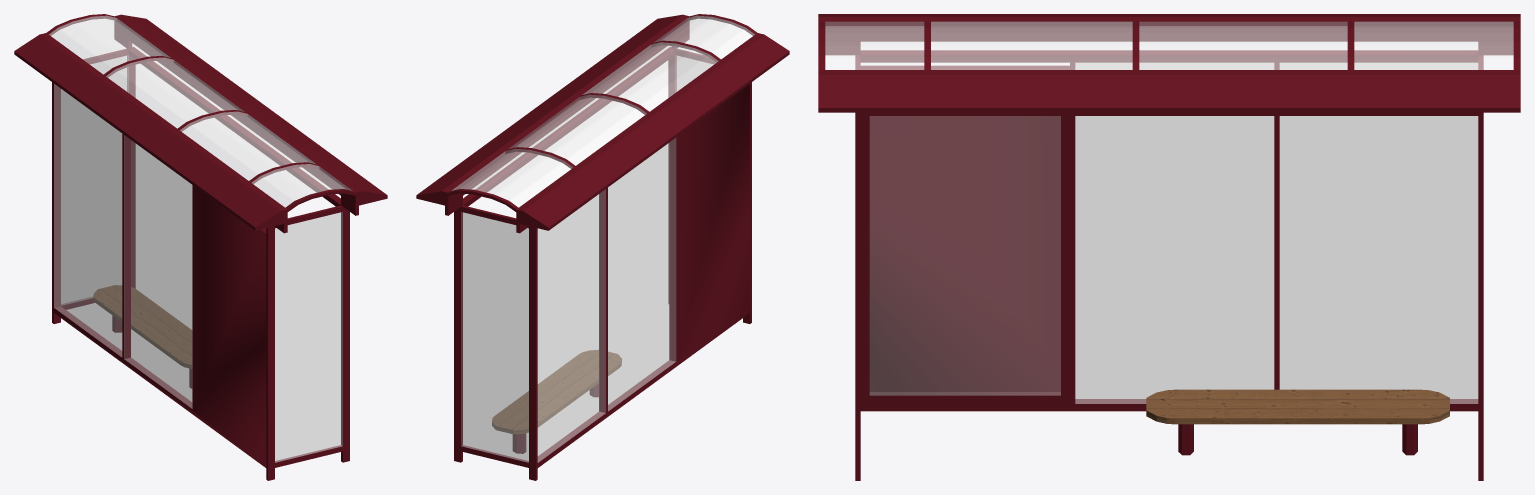
The model's file is abribus-2.glb.
The picture shows the model from 3 angles, left to right: view 1: azimuth 30°, elevation 25°; view 2: azimuth 150°, elevation 25°; view 3: azimuth 270°, elevation 25°; orthographic projection. The views are drawn at different scales.
Visible parts, largest first — view 1: wiata_8, szyba2_0, szyba3_1, szyba5_2, szyba4_3, szybaUp2_5, szybaUp3_6, szybaUp1_4, lawka_7, szybaUp2.001_12; view 2: wiata_8, szyba4_3, szyba5_2, szyba3_1, szybaUp2_5, szybaUp3_6, lawka_7, szybaUp1_4, szybaUp2.001_12, szyba2_0; view 3: wiata_8, szyba3_1, szyba5_2, szyba1_11, lawka_7, szybaUp2_5, szybaUp3_6, szybaUp1_4, szybaUp2.001_12.
Part boxes in pixels (left/top/right/bottom): wiata_8: left=14, top=14, right=387, bottom=480; szyba2_0: left=275, top=212, right=342, bottom=462; szyba3_1: left=124, top=135, right=192, bottom=408; szyba5_2: left=54, top=84, right=122, bottom=356; szyba4_3: left=61, top=56, right=126, bottom=305; szybaUp2_5: left=106, top=57, right=244, bottom=128; szybaUp3_6: left=180, top=111, right=315, bottom=180; szybaUp1_4: left=49, top=15, right=170, bottom=74; lawka_7: left=94, top=285, right=191, bottom=368; szybaUp2.001_12: left=251, top=164, right=352, bottom=207; wiata_8: left=416, top=14, right=789, bottom=480; szyba4_3: left=461, top=212, right=528, bottom=462; szyba5_2: left=537, top=189, right=605, bottom=462; szyba3_1: left=608, top=138, right=675, bottom=411; szybaUp2_5: left=509, top=95, right=646, bottom=165; szybaUp3_6: left=582, top=42, right=718, bottom=111; lawka_7: left=492, top=350, right=621, bottom=433; szybaUp1_4: left=451, top=149, right=572, bottom=207; szybaUp2.001_12: left=654, top=15, right=754, bottom=58; szyba2_0: left=677, top=56, right=713, bottom=90; wiata_8: left=818, top=14, right=1520, bottom=480; szyba3_1: left=1075, top=63, right=1274, bottom=403; szyba5_2: left=1279, top=63, right=1478, bottom=403; szyba1_11: left=870, top=116, right=1060, bottom=395; lawka_7: left=1146, top=389, right=1449, bottom=424; szybaUp2_5: left=1139, top=22, right=1347, bottom=69; szybaUp3_6: left=931, top=21, right=1132, bottom=69; szybaUp1_4: left=1354, top=21, right=1513, bottom=69; szybaUp2.001_12: left=825, top=22, right=924, bottom=69.
Bounding box in the file's own units: 1.47 × 3.03 × 4.63.
3 materials, 1 textured.
